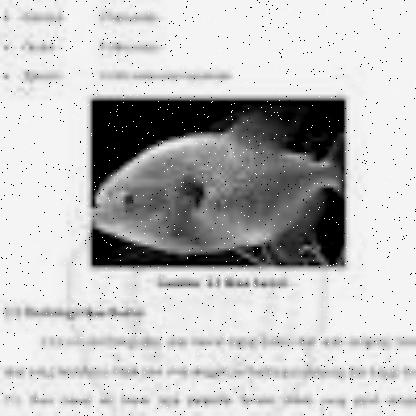ikan-pacu: (96, 121, 340, 256)
